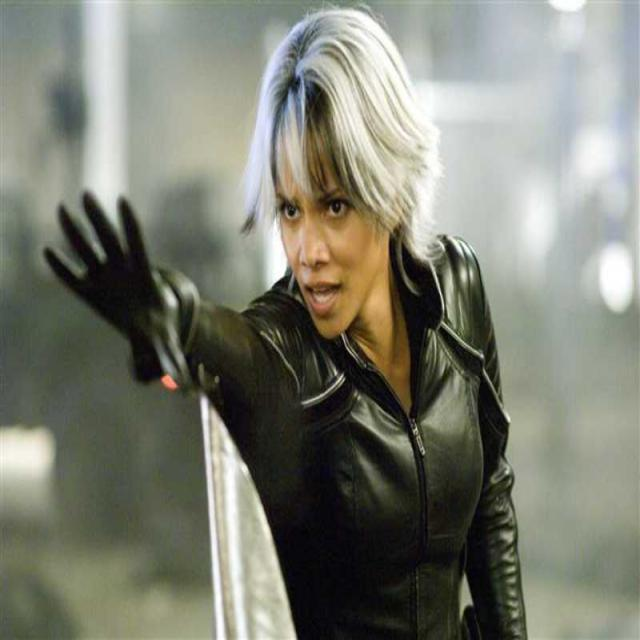mobile_phonerotation: (42, 5, 530, 638)
